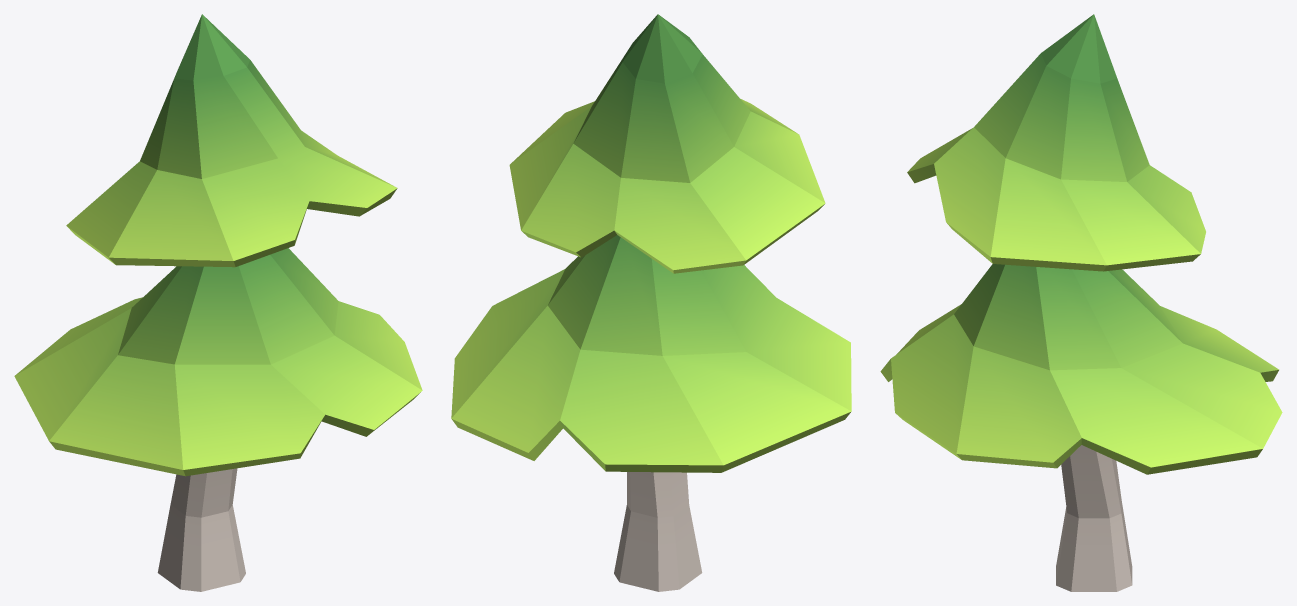
File: GreenPine7.fbx
3 renders of one model, left to right at view 1: azimuth 30°, elevation 25°; view 2: azimuth 150°, elevation 25°; view 3: azimuth 270°, elevation 25°, orthographic.
Parts seen in each view (by area): view 1: GreenPine7; view 2: GreenPine7; view 3: GreenPine7.
Boxes of the visible parts, x1,y1,x2,y2 form: GreenPine7: (14,14,422,591); GreenPine7: (451,14,851,591); GreenPine7: (880,14,1282,591).
Size of the model in its own units: 308 by 463 by 300.
